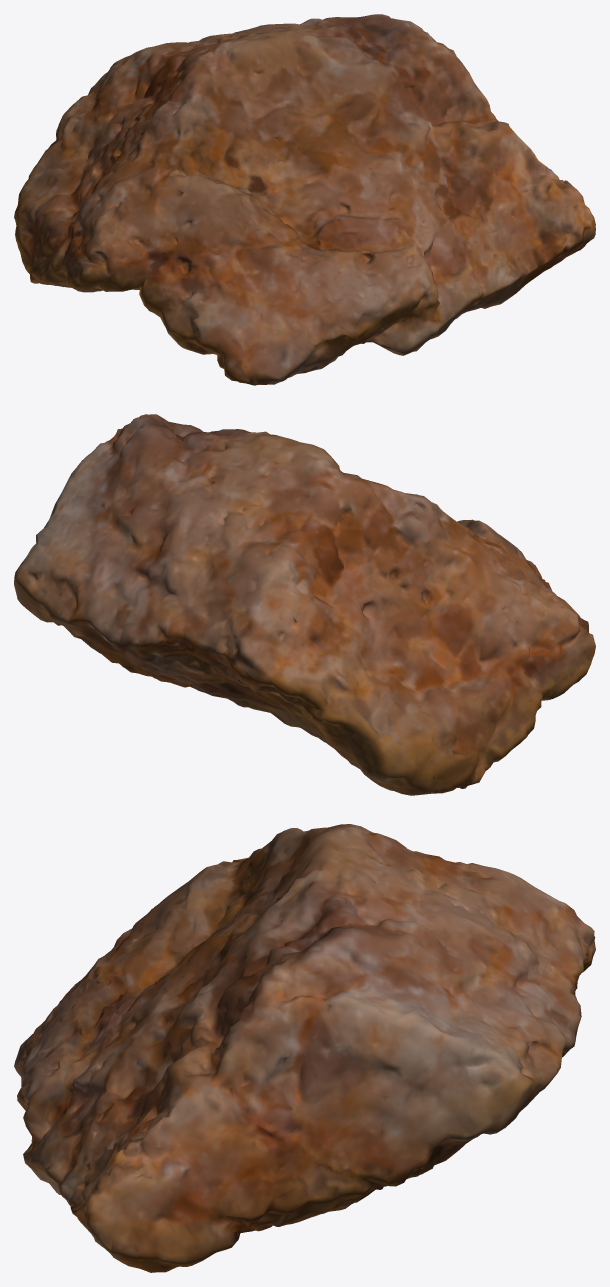
The model's file is rock_5.obj.
The picture shows the model from 3 angles, top to bottom: view 1: azimuth 30°, elevation 25°; view 2: azimuth 150°, elevation 25°; view 3: azimuth 270°, elevation 25°; orthographic projection. The views are drawn at different scales.
Parts seen in each view (by area): view 1: namaqualand_stones_01_a_LOD0; view 2: namaqualand_stones_01_a_LOD0; view 3: namaqualand_stones_01_a_LOD0.
Part boxes in pixels (x1,y1,x2,y2): namaqualand_stones_01_a_LOD0: (14,14,595,385); namaqualand_stones_01_a_LOD0: (14,414,595,795); namaqualand_stones_01_a_LOD0: (14,824,595,1272).
Size of the model in its own units: 0.311 by 0.155 by 0.2572.
